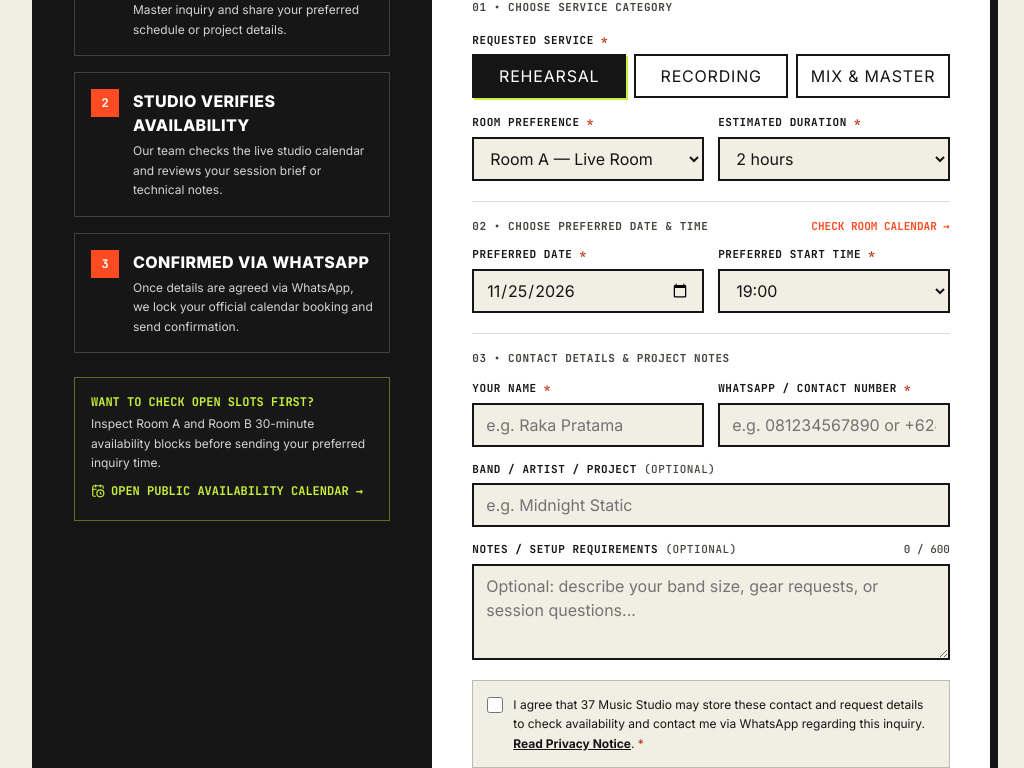
Test: Phase H — Public Booking Request Workflow, Calendar Conversion & WhatsApp Integration › Group 1 — Public Request Submission & Anti-Spam Validation › prevents double-click duplicate submissions, avoids fake success on repository errors, and shows honest pending REQ receipt
Later steps or results of the test are not shown.
(page scrolled)
Type "Gilang Drum" into the field labelled "Your Name *" at (588, 424), box [472,402,704,446]
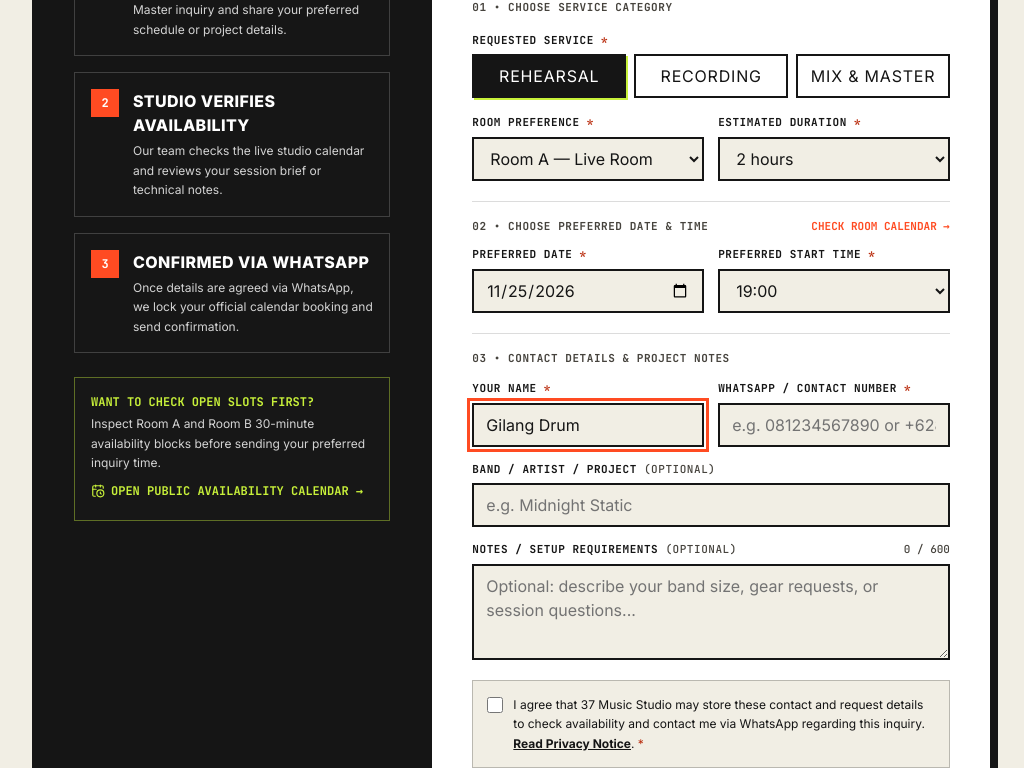
Type "081234567890" into the field labelled "WhatsApp / Contact Number *" at (834, 424), box [718,402,950,446]
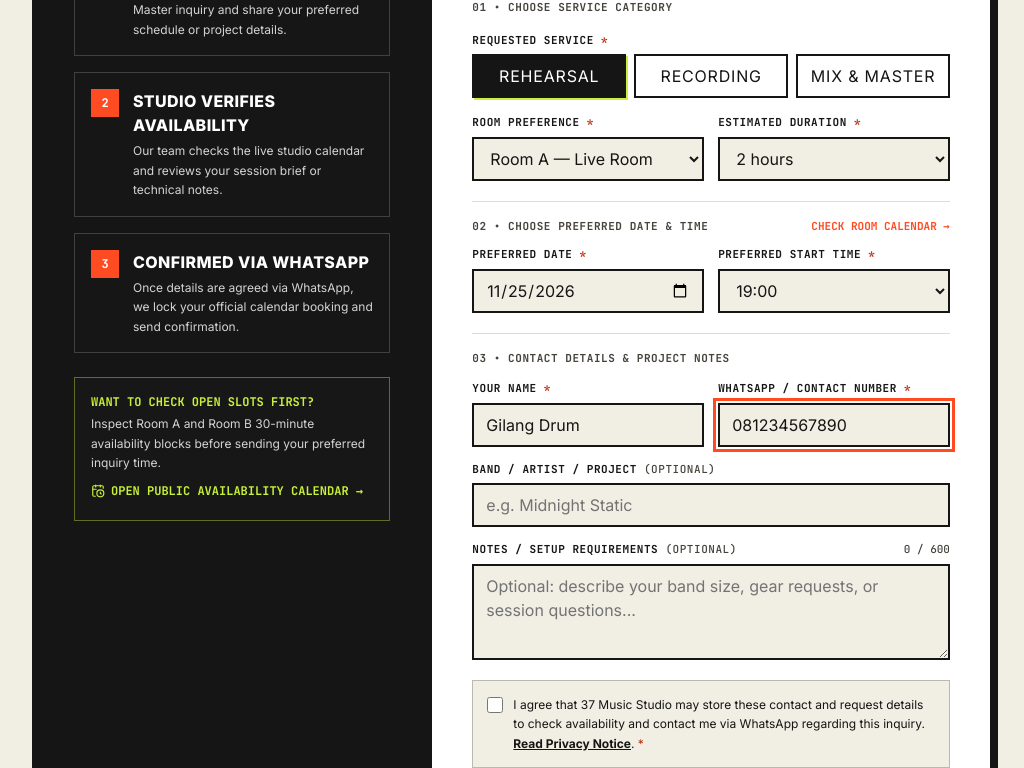
Click the checkbox labelled "I agree that 37 Music Studio may store" at (495, 704), box [487,696,503,712]
(page scrolled)
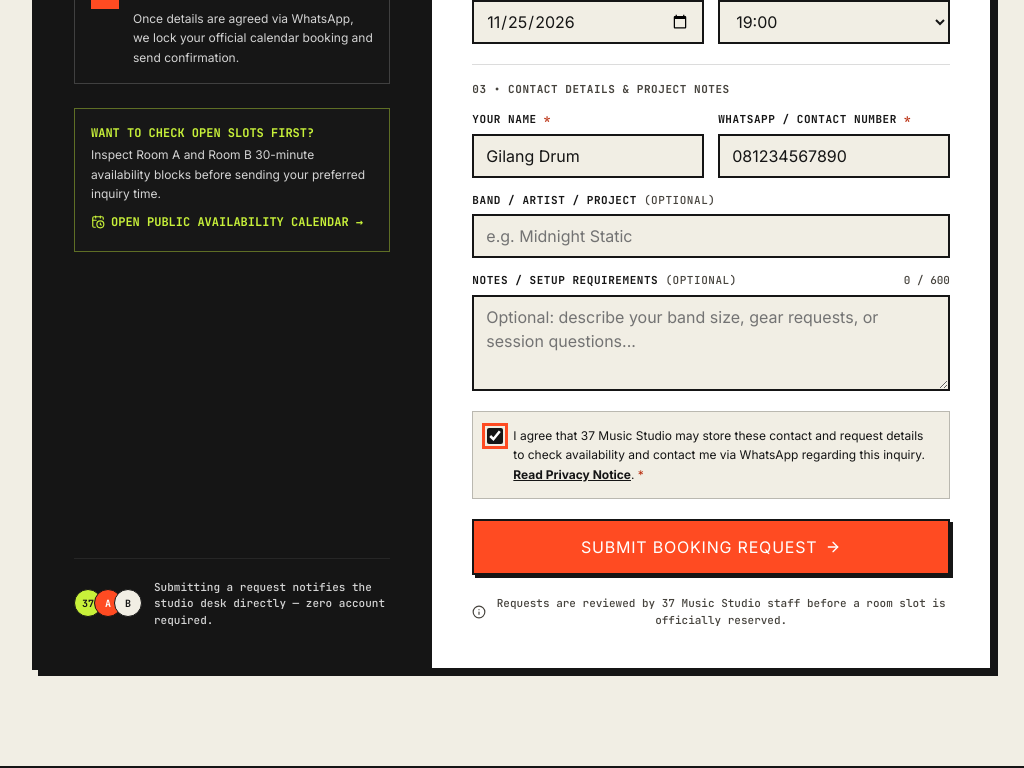
Click the button "Submit booking request" at (711, 547), box [472,519,950,575]
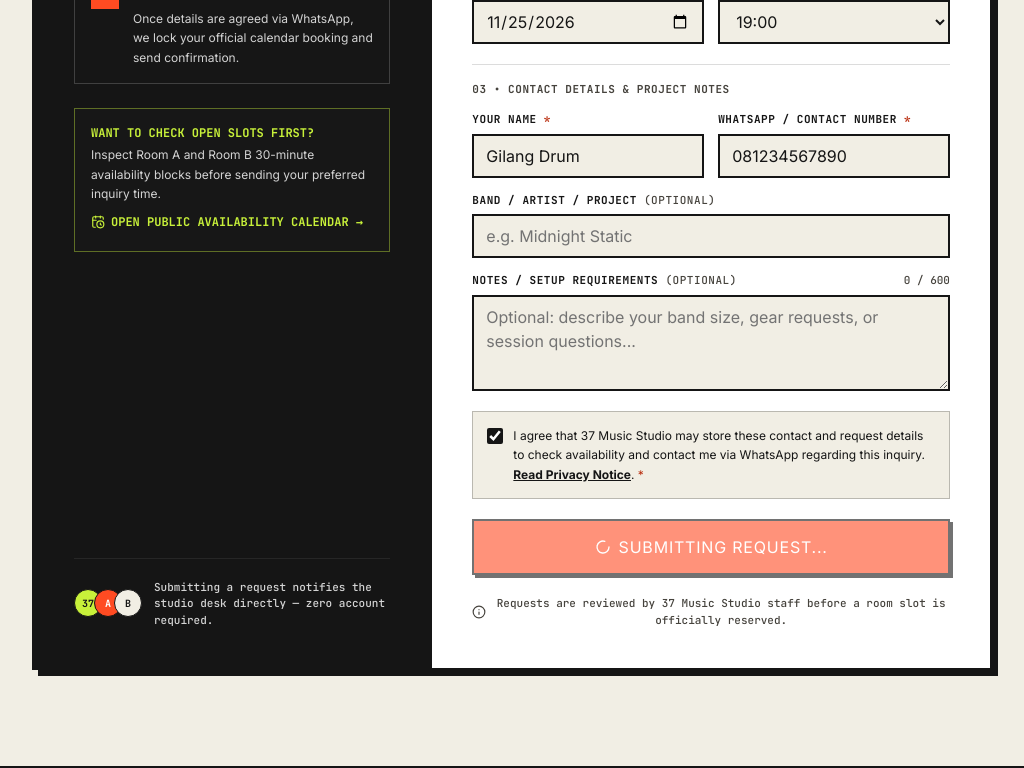
Click the button named "submit booking request" at (711, 547), box [472,519,950,575]
(page scrolled)
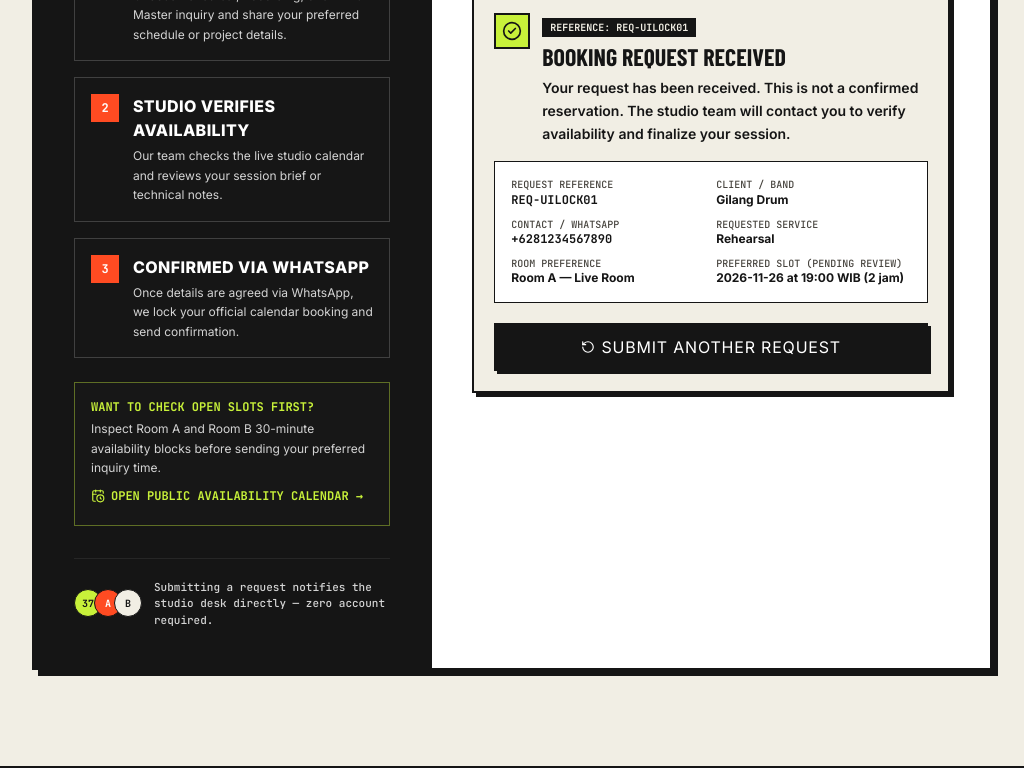
Result: the heading "Booking request received" is shown at [542,42,786,71]
